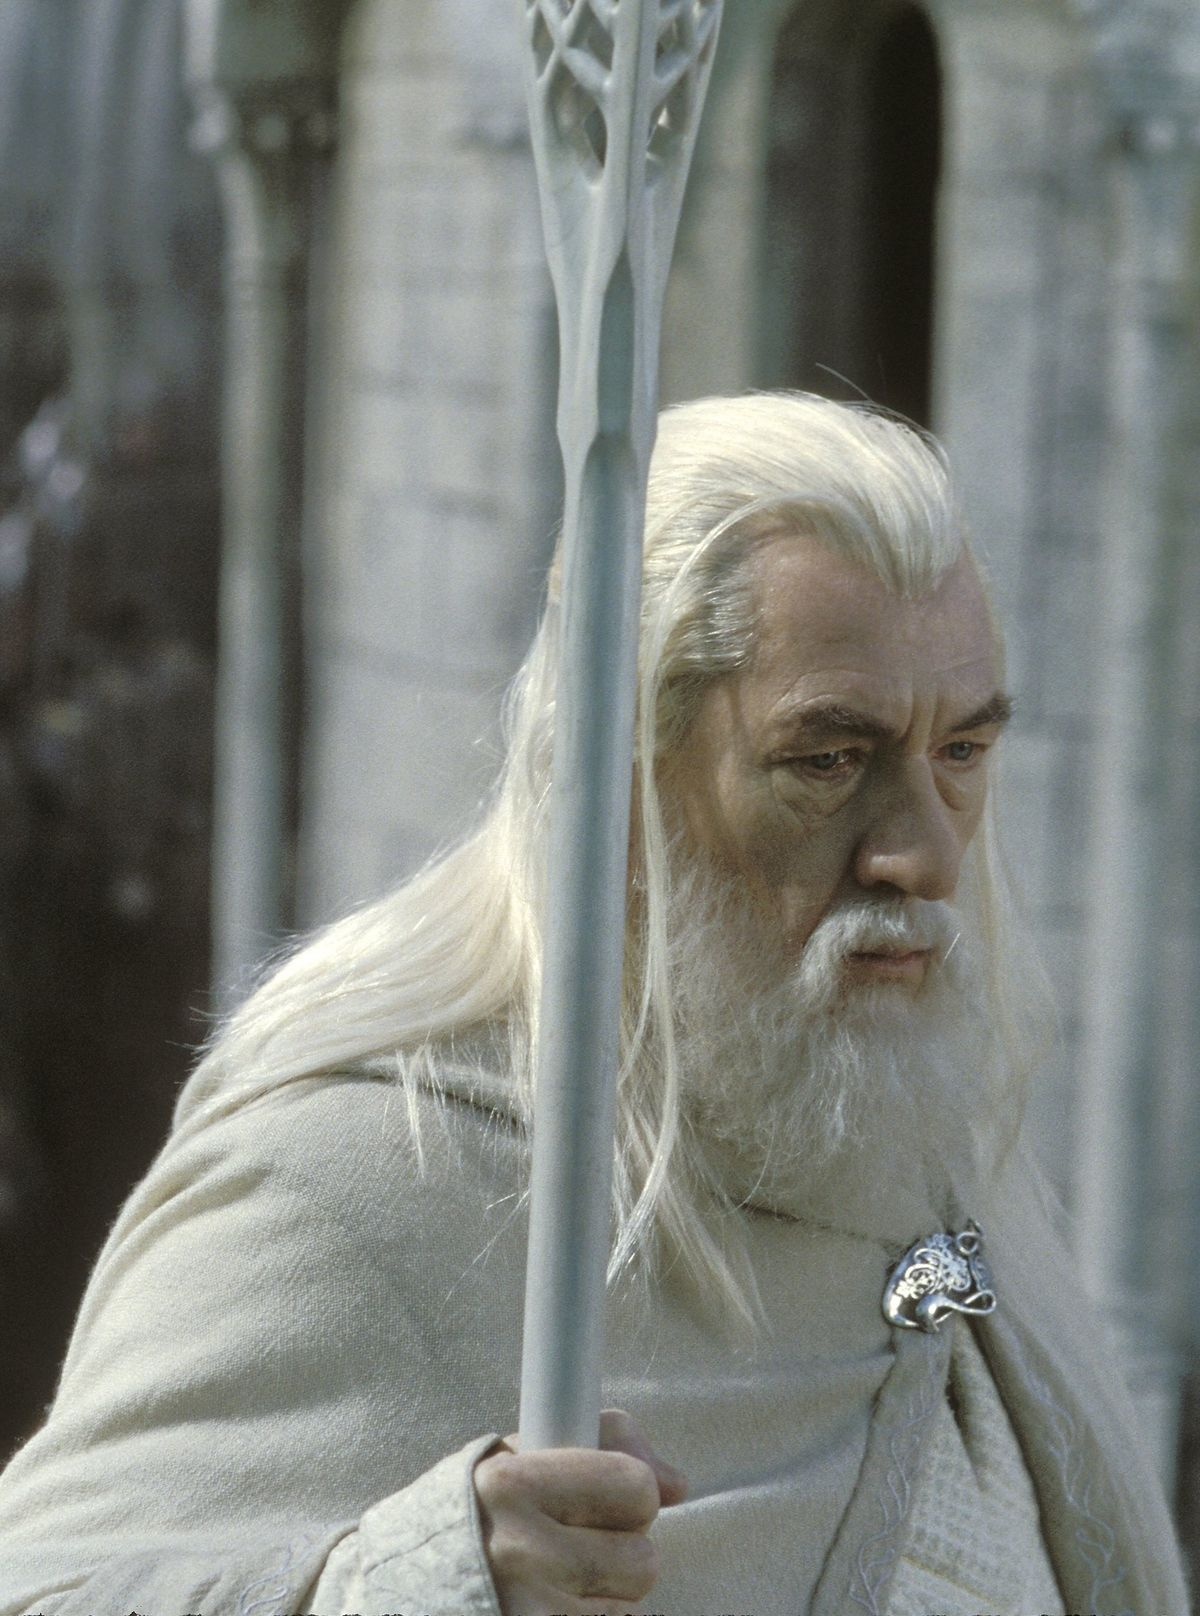gandalf gray: (105, 43, 1119, 1579)
